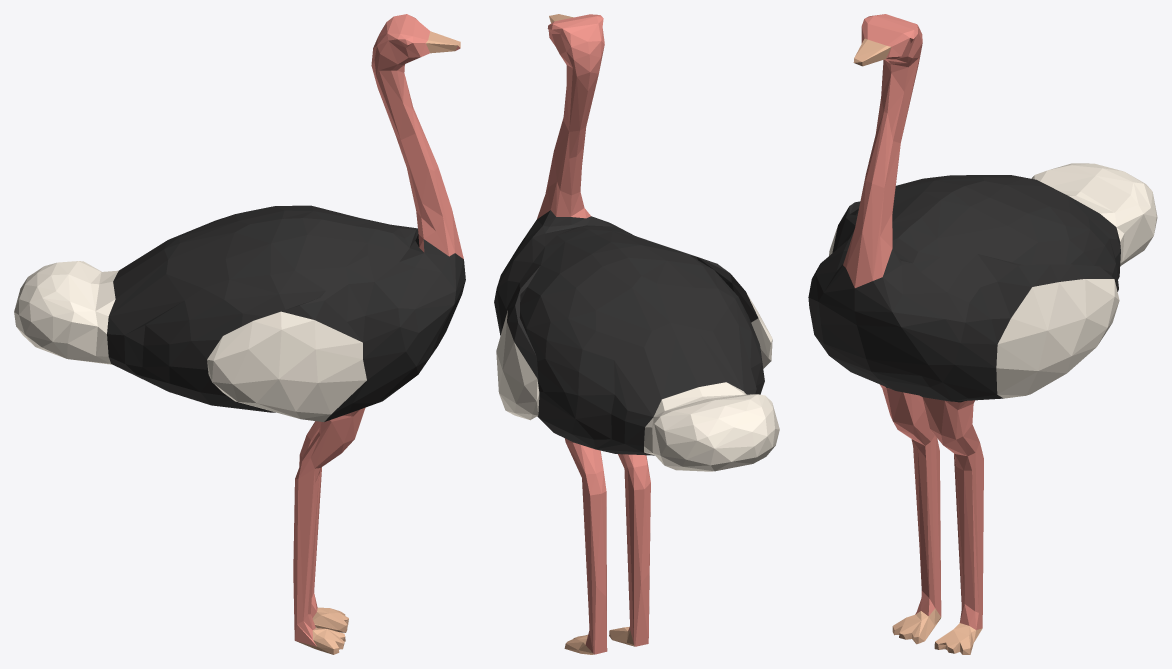
File: ostrich.glb
3 renders of one model, left to right at view 1: azimuth 30°, elevation 25°; view 2: azimuth 150°, elevation 25°; view 3: azimuth 270°, elevation 25°, orthographic. The views are drawn at different scales.
Parts seen in each view (by area): view 1: Plane.005_0; view 2: Plane.005_0; view 3: Plane.005_0.
Part boxes in pixels (x1,y1,x2,y2): Plane.005_0: [14, 14, 465, 654]; Plane.005_0: [494, 14, 779, 654]; Plane.005_0: [808, 14, 1157, 654].
Bounding box in the file's own units: 8.95 × 14.93 × 7.3.
Materials: 1 (1 with a texture image).
